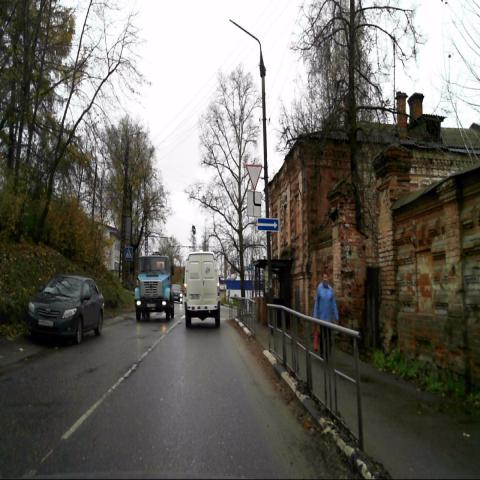5_7_1: (258, 217, 278, 233)
